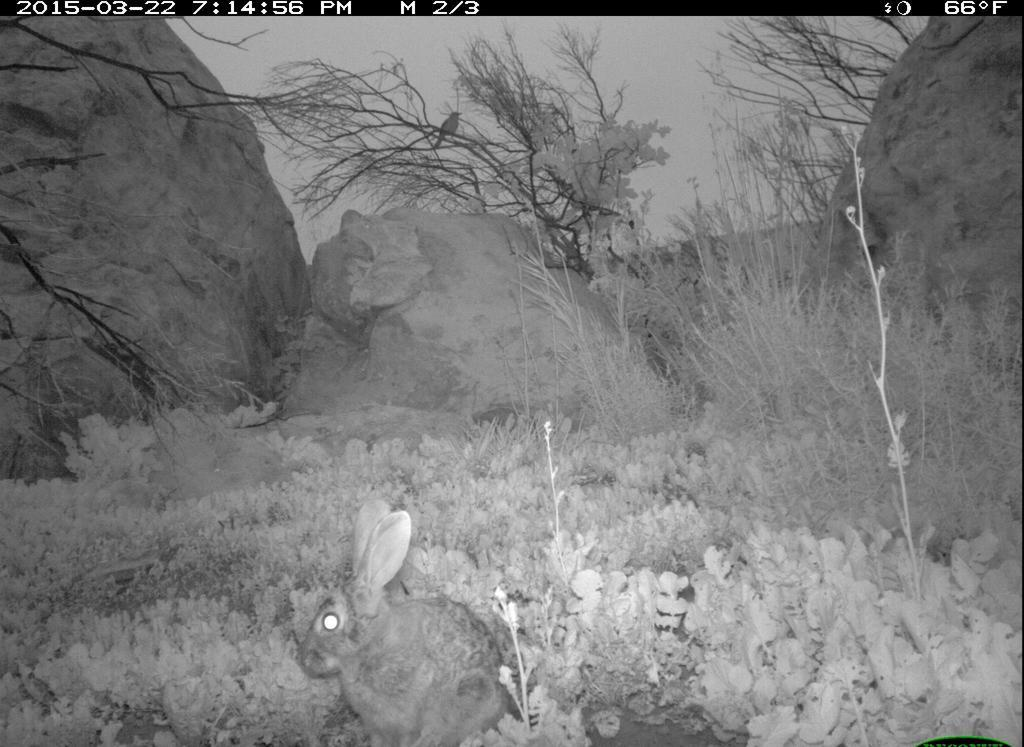rabbit: (299, 493, 520, 747)
